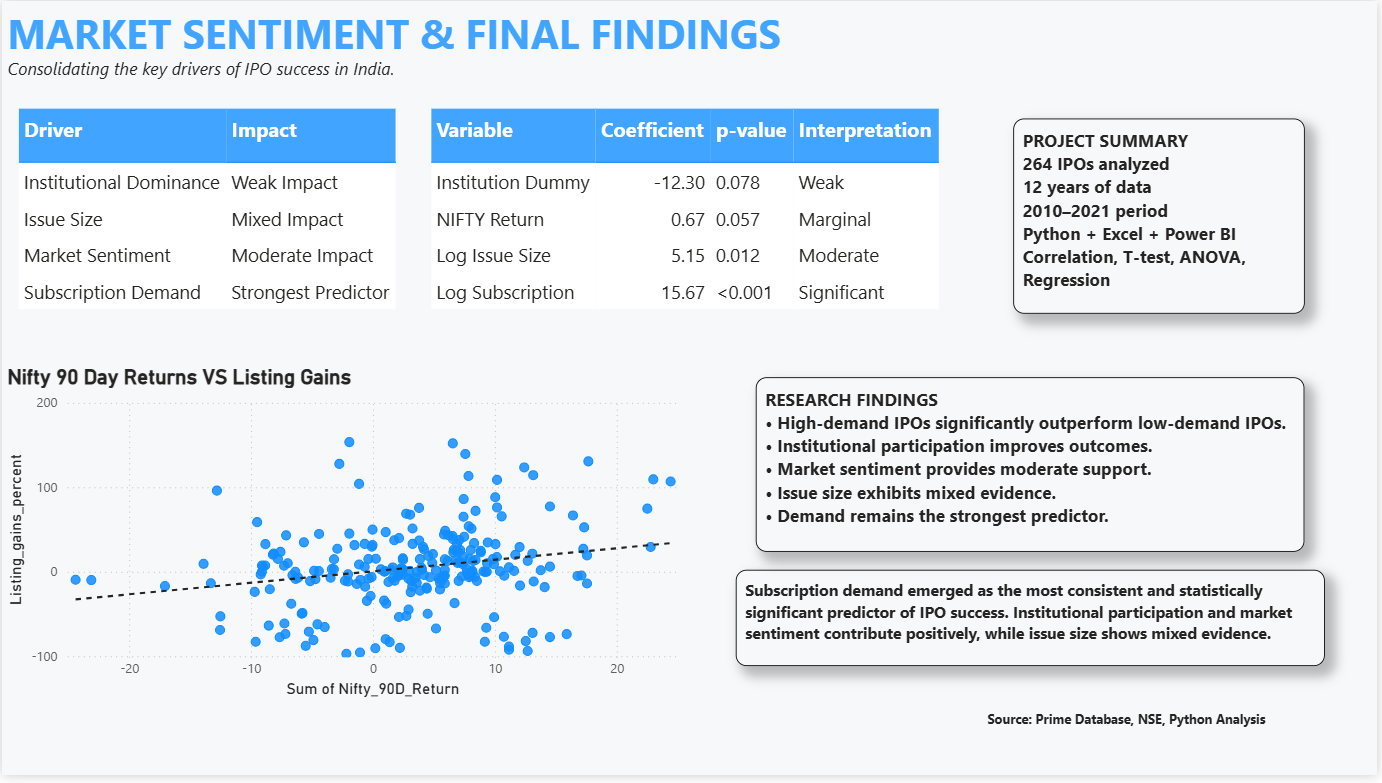

Layout of this report page (visuals, bound fields, positions):
{"tool":"powerbi","page":{"name":"Market Sentiment & Findings","canvas":[1280,720],"ordinal":3},"visuals":[{"type":"scatterChart","title":"Nifty 90 Day Returns VS Listing Gains","fields":{"X":["Sum(Sheet1.Nifty_90D_Return)"],"Y":["Sheet1.Listing_gains_percent"]},"box":[0,338.4,640.7,315.1],"z":0},{"type":"tableEx","fields":{"Values":["Table.Driver","Table.Impact"]},"box":[9.3,95.3,393,243],"z":1000},{"type":"textbox","box":[701.2,350,510.5,162.8],"z":3000},{"type":"tableEx","fields":{"Values":["Table (3).Variable","Table (3).Coefficient","Table (3).p-value","Table (3).Interpretation"]},"box":[393,95.3,494.2,208.1],"z":3001},{"type":"textbox","box":[0,0,1158.1,64],"z":3002},{"type":"textbox","box":[0,46.5,664,33.7],"z":3003},{"type":"textbox","box":[682.6,529.1,547.7,89.5],"z":3004},{"type":"textbox","box":[940.7,109.3,270.9,181.4],"z":3005},{"type":"textbox","box":[911.6,653.5,300,31.4],"z":3006}]}

Visuals, with their boxes in screenshot pixels (x1, y1, x2, y2), scaled from the page's 1280x720 canvas onto the 1382x783 screenshot:
"Nifty 90 Day Returns VS Listing Gains" scatterChart: BBox(0, 368, 692, 711)
tableEx - Table.Driver x Table.Impact: BBox(10, 104, 434, 368)
textbox: BBox(757, 381, 1308, 558)
tableEx - Table (3).Variable x Table (3).Coefficient: BBox(424, 104, 958, 330)
textbox: BBox(0, 0, 1250, 70)
textbox: BBox(0, 51, 717, 87)
textbox: BBox(737, 575, 1328, 673)
textbox: BBox(1016, 119, 1308, 316)
textbox: BBox(984, 711, 1308, 745)
